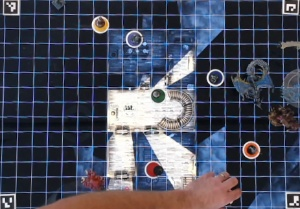blue: (203, 67, 224, 87)
green: (148, 87, 168, 106)
orange: (240, 138, 260, 161)
red: (142, 158, 161, 179)
violet: (122, 27, 145, 49)
yellow: (90, 14, 111, 35)
